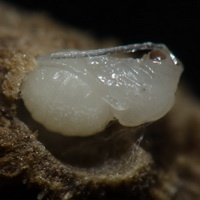insect: (21, 42, 182, 135)
